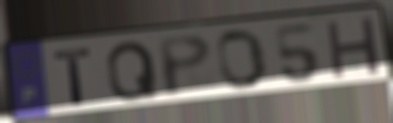5: (272, 20, 322, 86)
H: (323, 14, 383, 82)
O: (215, 28, 270, 93)
P: (155, 32, 215, 100)
Q: (105, 39, 161, 105)
T: (51, 46, 95, 108)
